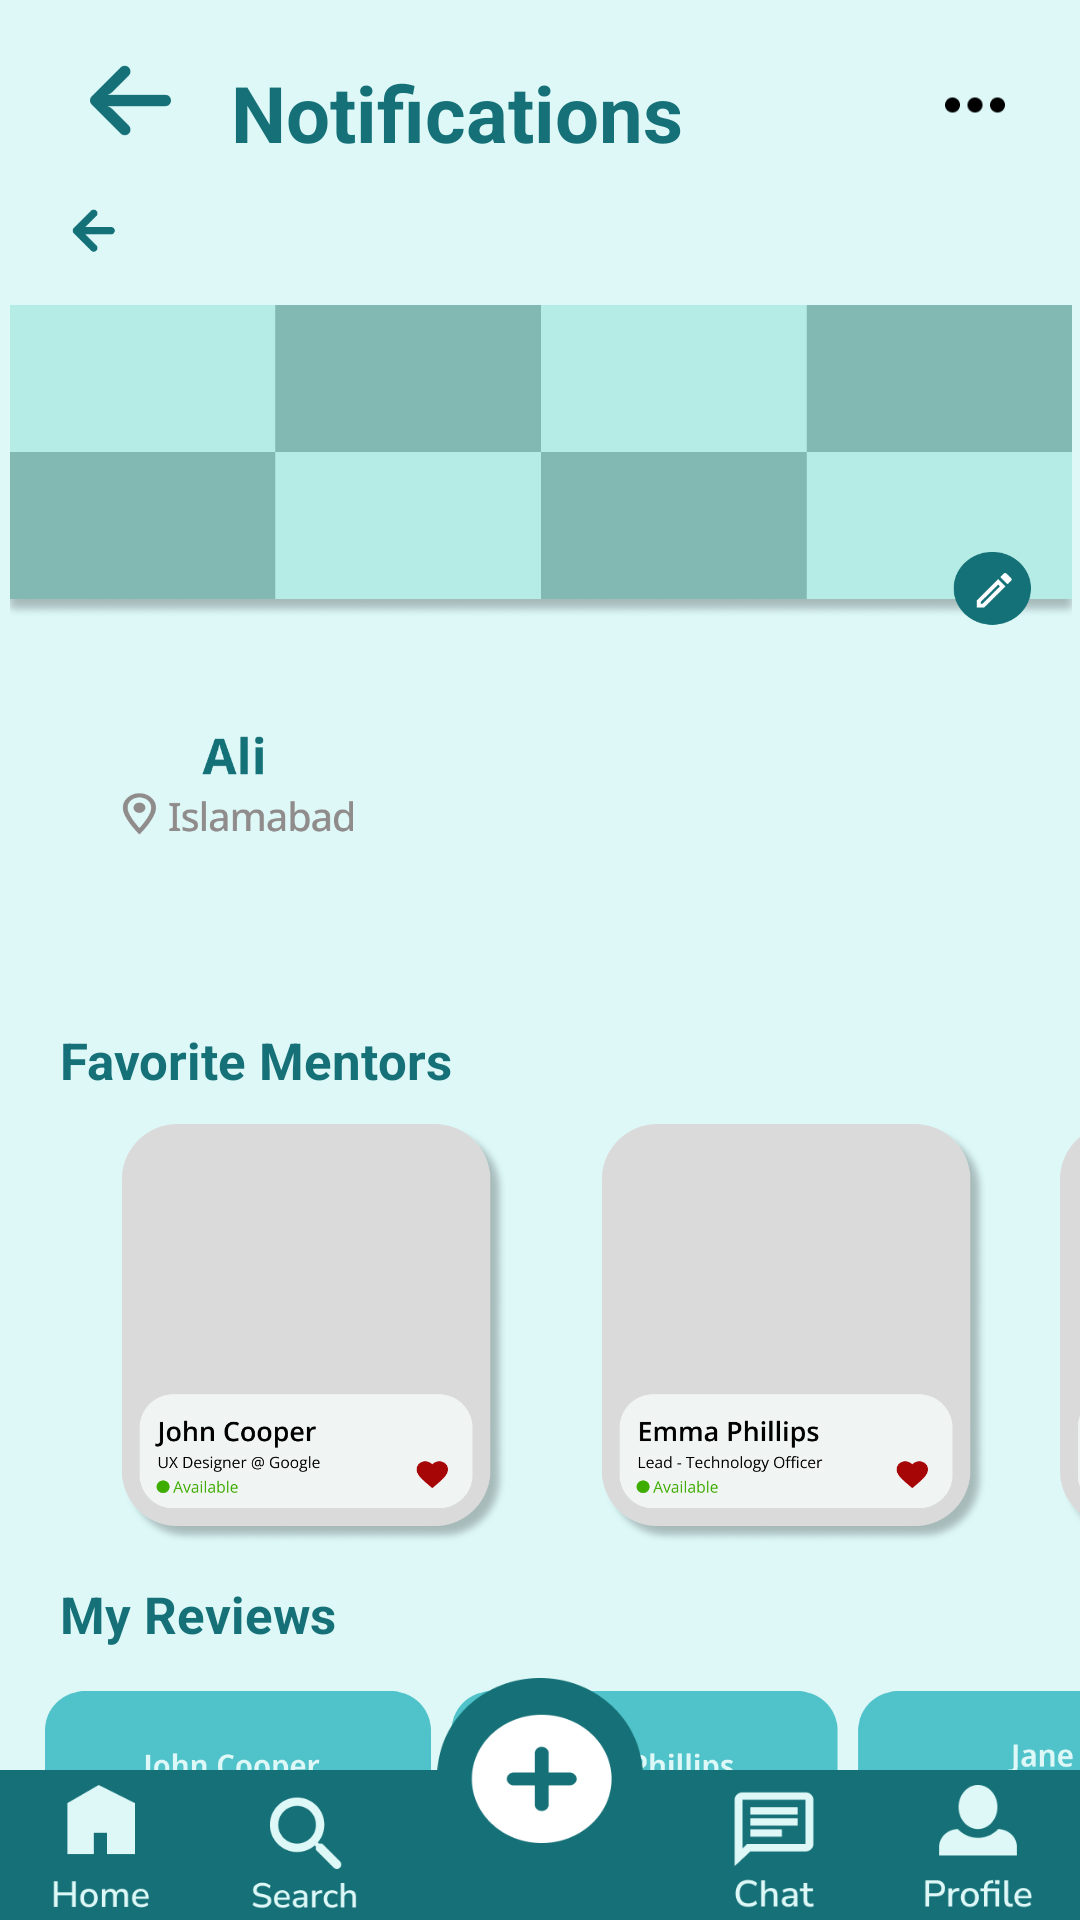

Screen size 1080x1920. Icon name, then its center in pixels as point (x, y):
add: point (540, 1775)
arrow: point (130, 100)
more horiz: point (975, 105)
